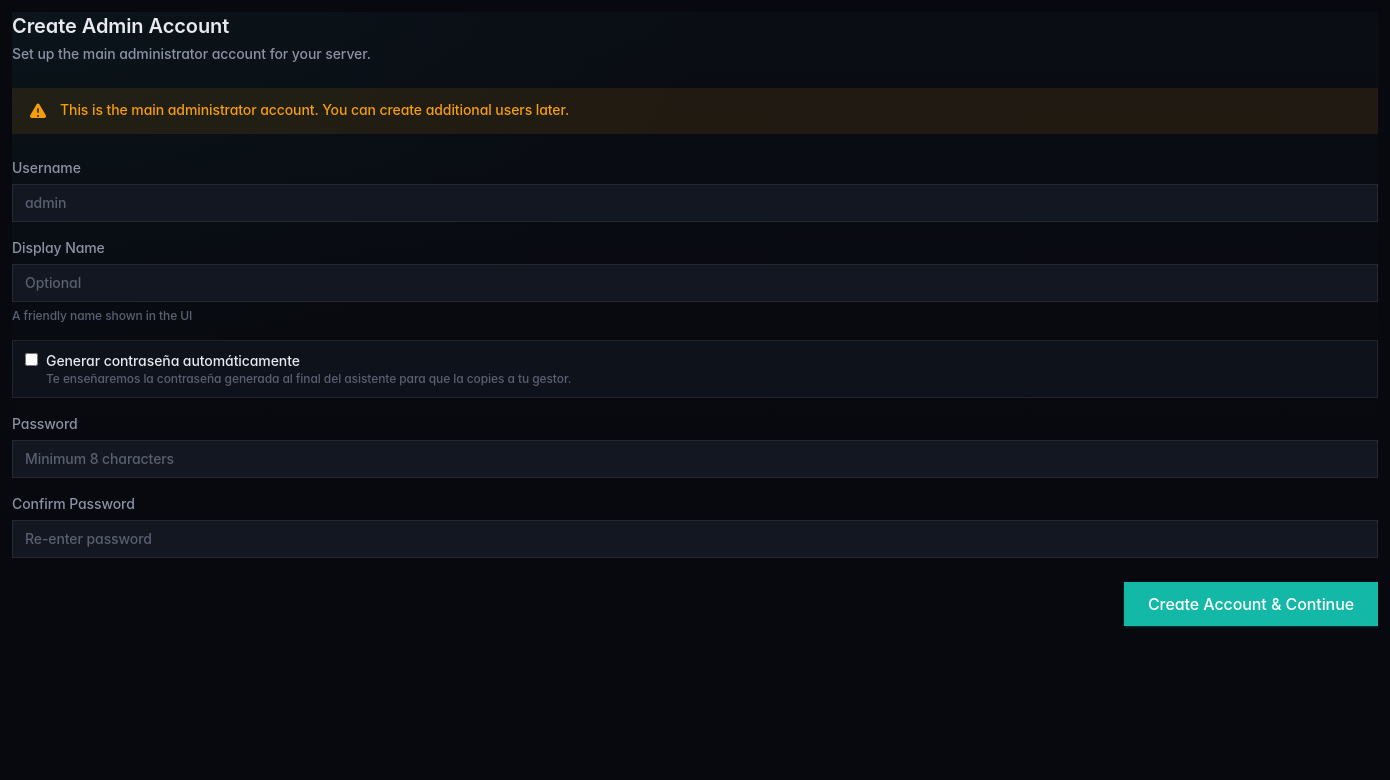
AccountStep › blocks submit when password and confirmation do not match
Type "alice" into the field labelled "Username" at (695, 203), box [12,184,1378,222]
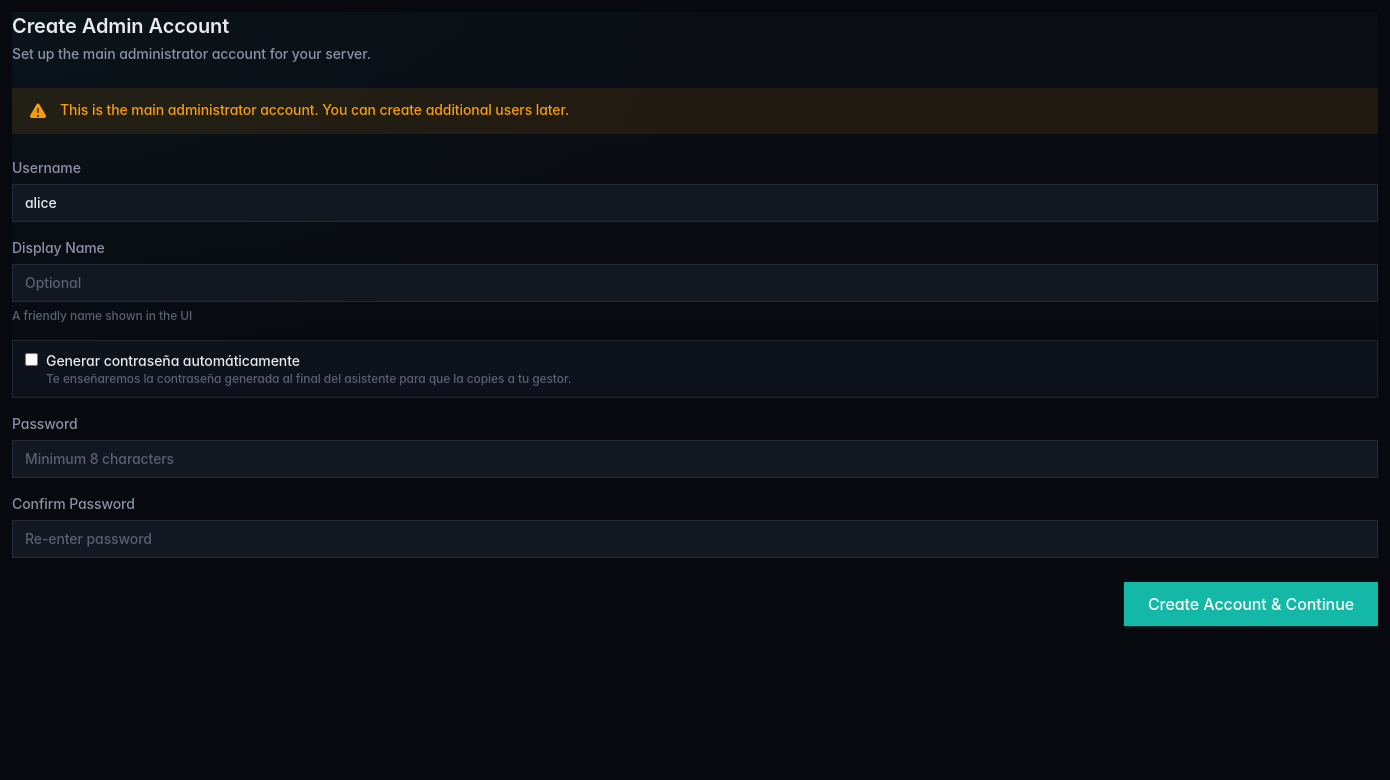
Type "password1" into the password field labelled "Password" at (695, 459), box [12,440,1378,478]
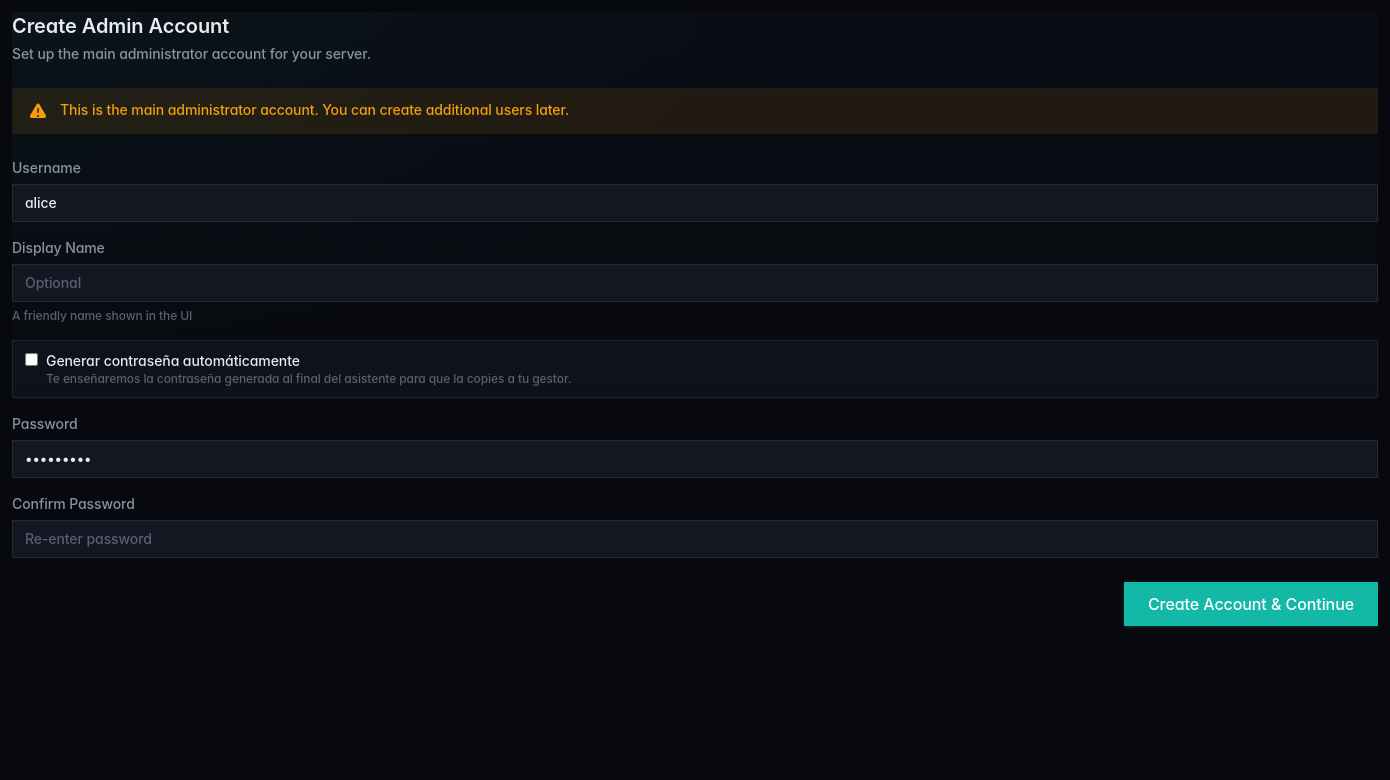
Type "password2" into the password field labelled "Confirm Password" at (695, 539), box [12,520,1378,558]
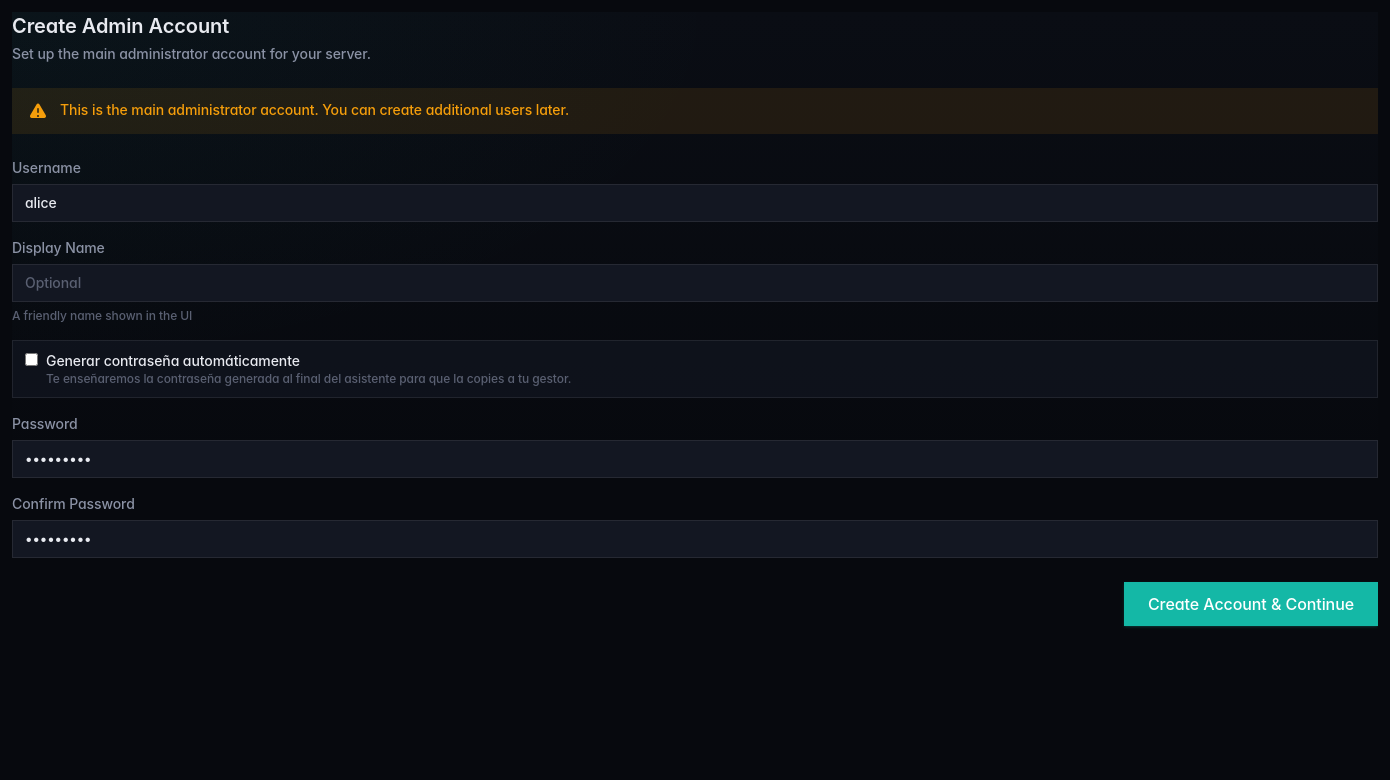
Click the button "Create Account & Continue" at (1251, 604), box [1124,582,1378,626]
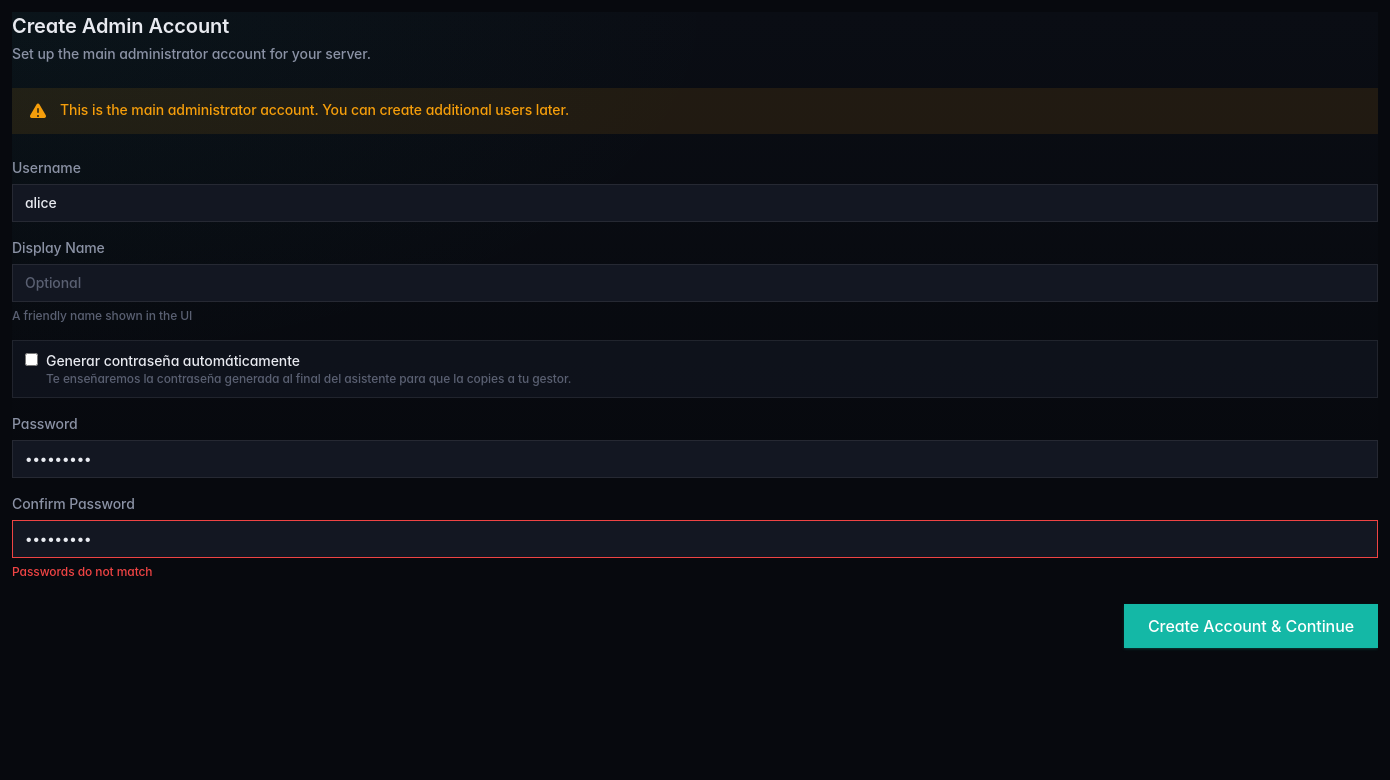
Expected: the text "Passwords do not match" is shown, [12,564,152,579]
